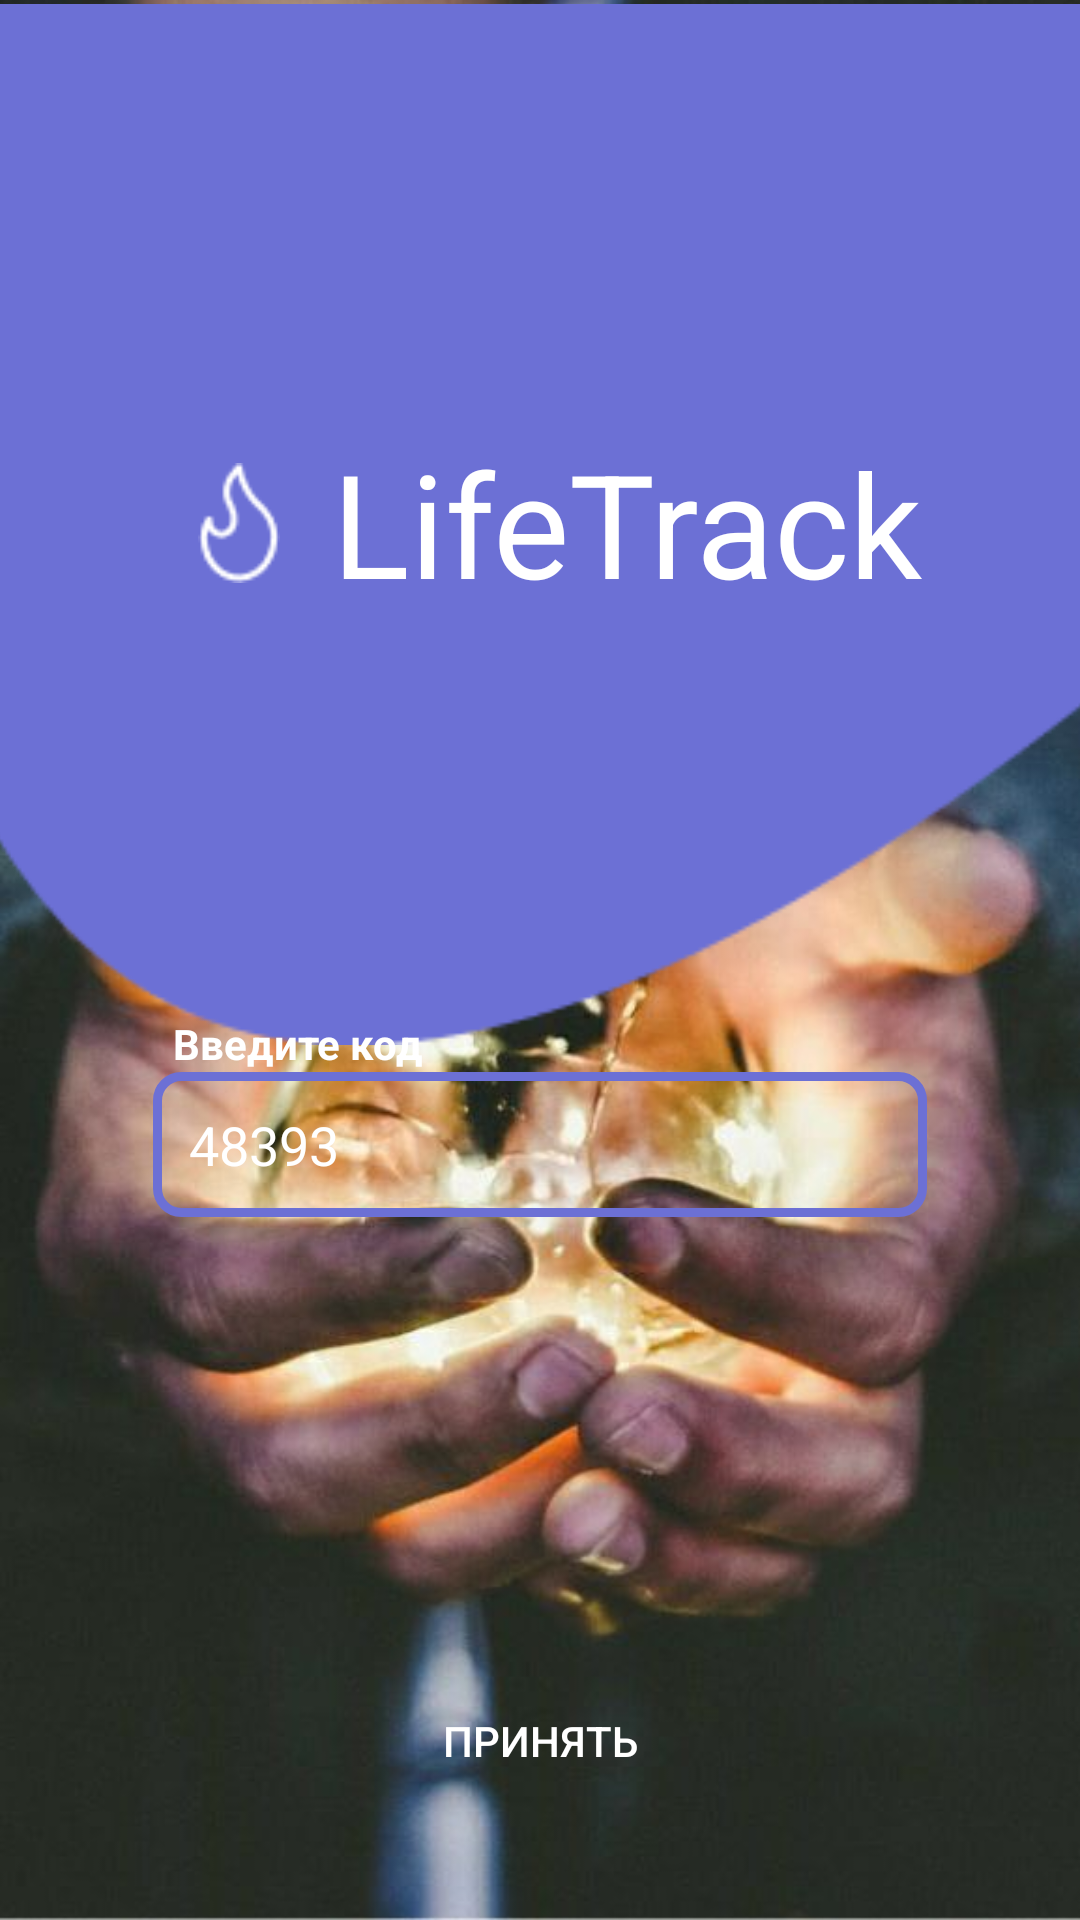

Where to tap for icons on this 1080*1920 app screen, as (x=x, y=y):
fire: (x=239, y=523)
